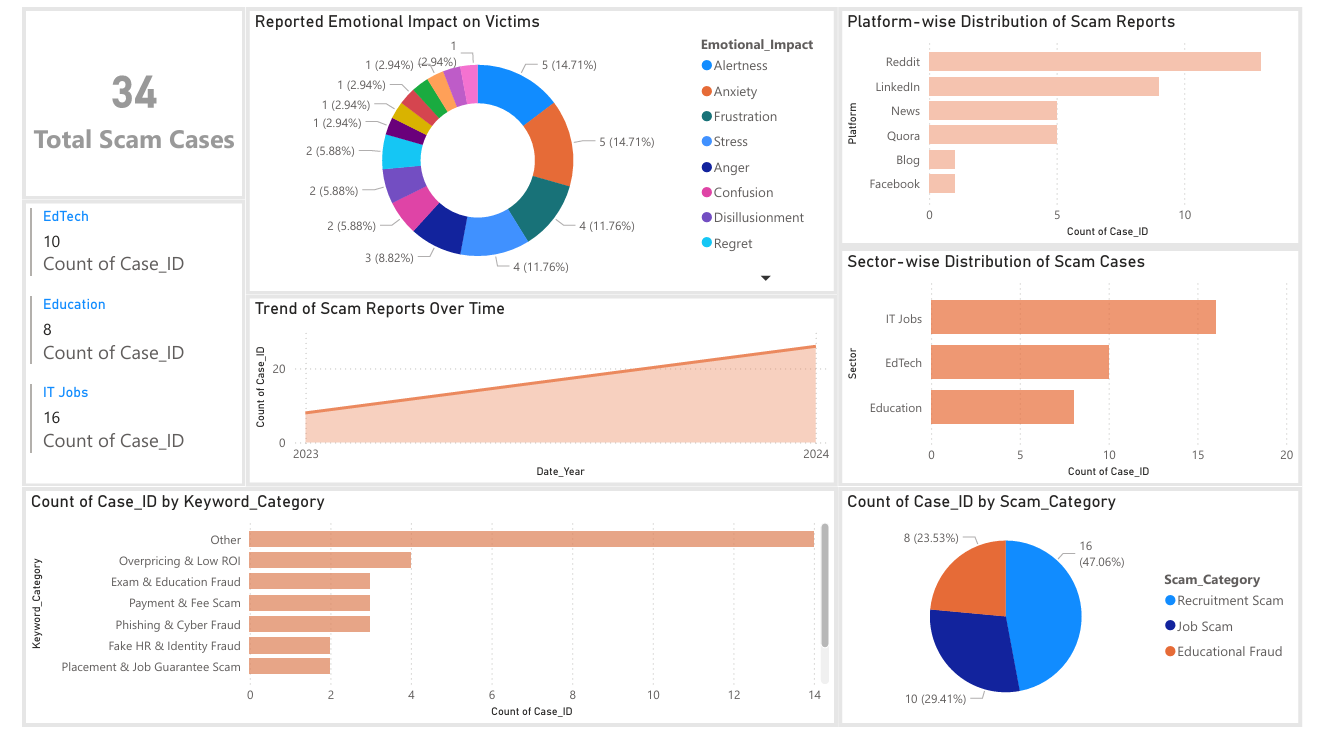

This screenshot's page, from the dashboard's own definition file:
{"tool":"powerbi","page":{"name":"Page 1","canvas":[1280,720],"ordinal":0},"visuals":[{"type":"card","fields":{"Values":["CountNonNull(real_time_scam_data.Case_ID)"]},"box":[0,0,224,193],"z":0},{"type":"multiRowCard","fields":{"Values":["real_time_scam_data.Sector","CountNonNull(real_time_scam_data.Case_ID)"]},"box":[0,192,224,288],"z":1000},{"type":"clusteredBarChart","title":"Sector-wise Distribution of Scam Cases","fields":{"Category":["real_time_scam_data.Sector"],"Y":["CountNonNull(real_time_scam_data.Case_ID)"]},"box":[816,240,464,240],"z":2000},{"type":"barChart","title":"Platform-wise Distribution of Scam Reports","fields":{"Category":["real_time_scam_data.Platform"],"Y":["CountNonNull(real_time_scam_data.Case_ID)"]},"box":[816,0,464,240],"z":3000},{"type":"donutChart","title":"Reported Emotional Impact on Victims","fields":{"Category":["real_time_scam_data.Emotional_Impact"],"Y":["CountNonNull(real_time_scam_data.Case_ID)"]},"box":[224,0,592,288],"z":4000},{"type":"clusteredBarChart","fields":{"Y":["CountNonNull(real_time_scam_data.Case_ID)"],"Category":["real_time_scam_data.Keyword_Category"]},"box":[0,480,816,240],"z":6000},{"type":"areaChart","title":"Trend of Scam Reports Over Time","fields":{"Category":["real_time_scam_data.Date_Year"],"Y":["CountNonNull(real_time_scam_data.Case_ID)"]},"box":[224,288,592,192],"z":7000},{"type":"pieChart","fields":{"Category":["real_time_scam_data.Scam_Category"],"Y":["CountNonNull(real_time_scam_data.Case_ID)"]},"box":[816,480,464,240],"z":7001}]}

Visuals, with their boxes in screenshot pixels (x1, y1, x2, y2), scaled from the page's 1280x720 canvas onto the 1325x737 screenshot:
card - CountNonNull(real_time_scam_data.Case_ID): region(0, 0, 232, 198)
multiRowCard - real_time_scam_data.Sector x CountNonNull(real_time_scam_data.Case_ID): region(0, 197, 232, 491)
"Sector-wise Distribution of Scam Cases" clusteredBarChart: region(845, 246, 1324, 491)
"Platform-wise Distribution of Scam Reports" barChart: region(845, 0, 1324, 246)
"Reported Emotional Impact on Victims" donutChart: region(232, 0, 845, 295)
clusteredBarChart - CountNonNull(real_time_scam_data.Case_ID) x real_time_scam_data.Keyword_Category: region(0, 491, 845, 736)
"Trend of Scam Reports Over Time" areaChart: region(232, 295, 845, 491)
pieChart - real_time_scam_data.Scam_Category x CountNonNull(real_time_scam_data.Case_ID): region(845, 491, 1324, 736)
